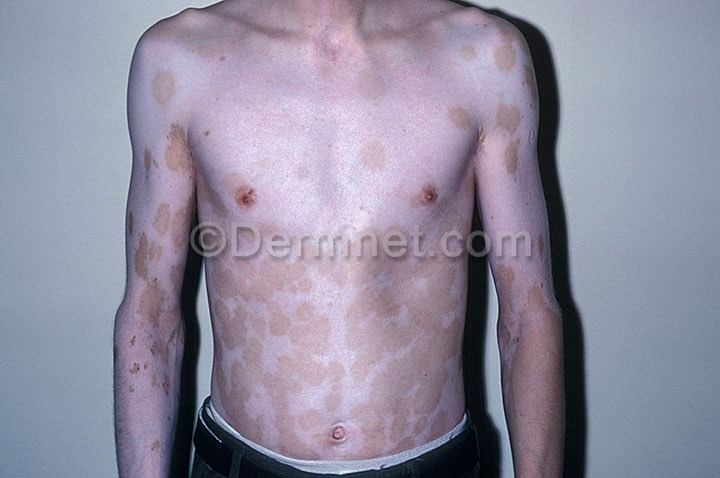Melasma: (214, 262, 457, 442), (436, 37, 542, 185), (118, 220, 189, 382), (142, 66, 214, 205), (331, 66, 391, 182), (497, 268, 582, 349)
